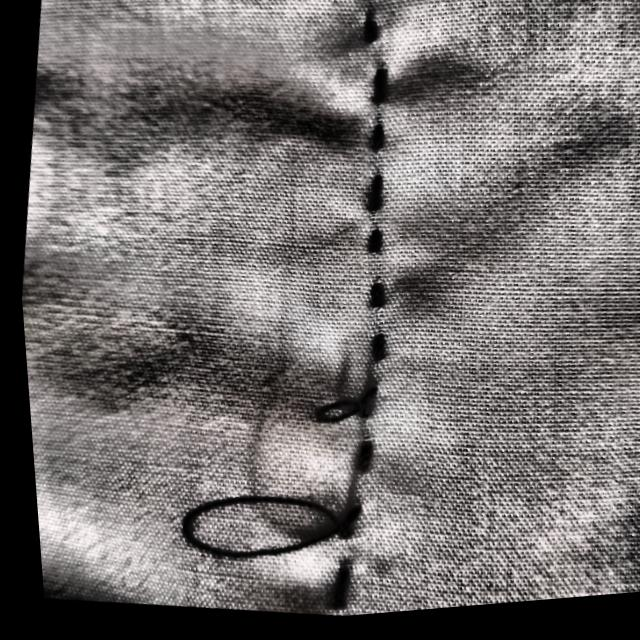Stitch: (155, 453, 364, 589), (283, 362, 401, 453)
